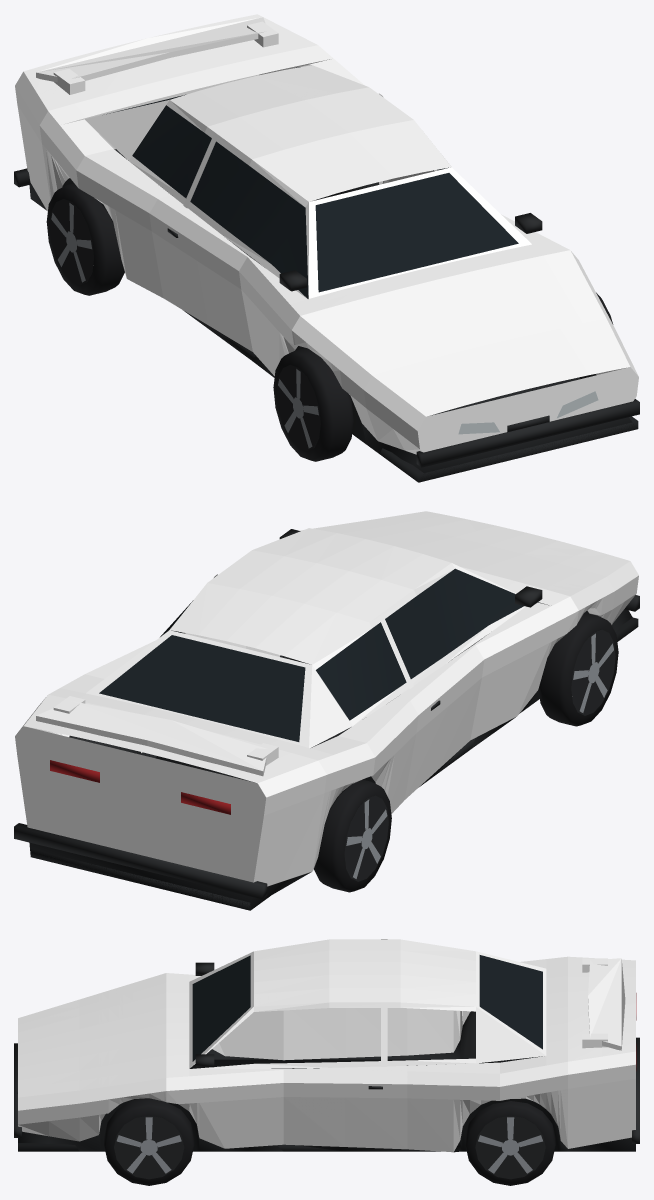
Rendered from sanga_fulcro.glb.
3 views of the same model, one above another, from view 1: azimuth 30°, elevation 25°; view 2: azimuth 150°, elevation 25°; view 3: azimuth 270°, elevation 25° (orthographic). The views are drawn at different scales.
Parts seen in each view (by area): view 1: Body_Paint, Body_Details, Mount_FrontLeft_Wheel_Details, Mount_RearLeft_Wheel_Details; view 2: Body_Paint, Body_Details, Mount_FrontLeft_Wheel_Details, Mount_RearLeft_Wheel_Details; view 3: Body_Paint, Body_Details, Mount_FrontRight_Wheel_Details, Mount_RearRight_Wheel_Details.
Part boxes in pixels (left/top/right/bottom): Body_Paint: left=15, top=14, right=638, bottom=454; Body_Details: left=14, top=67, right=639, bottom=482; Mount_FrontLeft_Wheel_Details: left=273, top=348, right=353, bottom=461; Mount_RearLeft_Wheel_Details: left=46, top=183, right=124, bottom=295; Body_Paint: left=15, top=511, right=638, bottom=886; Body_Details: left=14, top=529, right=639, bottom=910; Mount_FrontLeft_Wheel_Details: left=538, top=612, right=618, bottom=726; Mount_RearLeft_Wheel_Details: left=314, top=779, right=391, bottom=892; Body_Paint: left=18, top=939, right=635, bottom=1152; Body_Details: left=14, top=955, right=639, bottom=1152; Mount_FrontRight_Wheel_Details: left=104, top=1098, right=194, bottom=1185; Mount_RearRight_Wheel_Details: left=465, top=1101, right=555, bottom=1185.
Bounding box in the file's own units: 1.92 × 1.25 × 4.36.
Materials: 2 (1 with a texture image).
